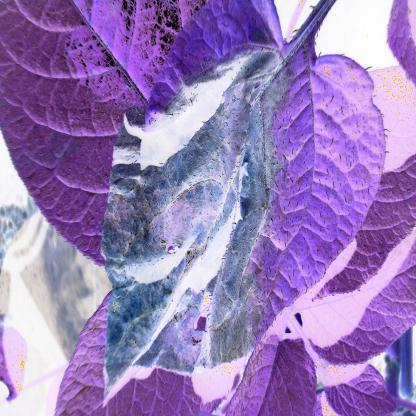Potato leaf: (100, 33, 389, 411)
